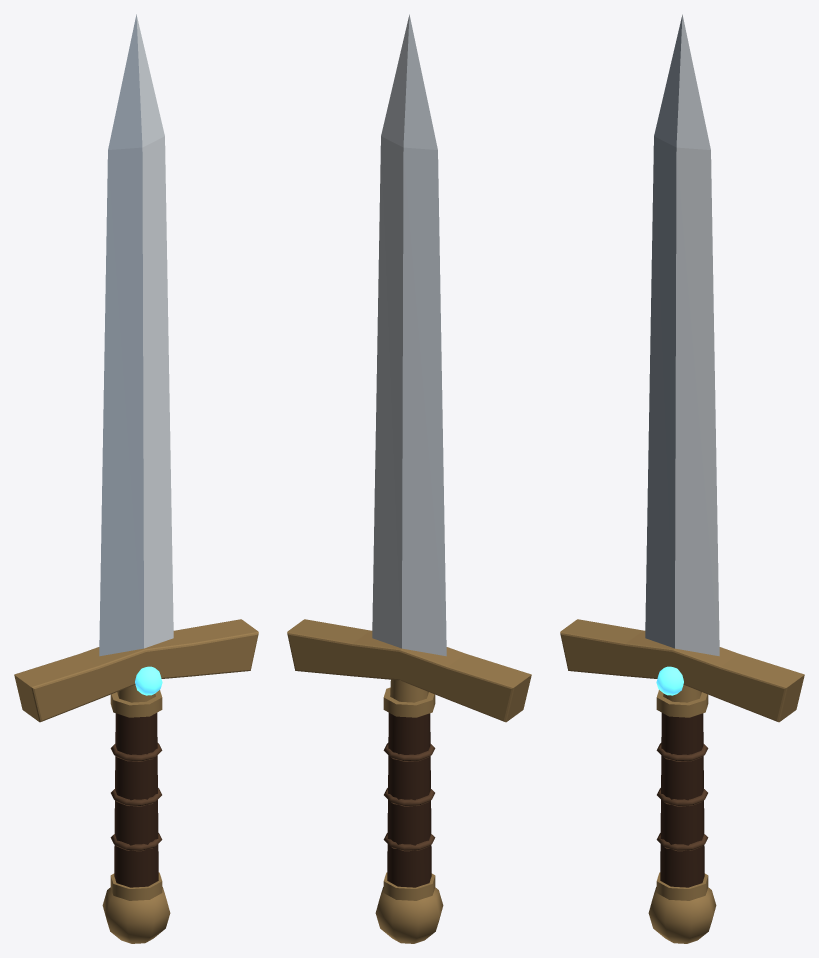
File: sword_f0_cb313329.glb
3 views of the same model, side by side, from view 1: azimuth 30°, elevation 25°; view 2: azimuth 150°, elevation 25°; view 3: azimuth 330°, elevation 25° (orthographic).
Visible parts, largest first — view 1: m0_ow80_, m3_ow80_, m1_ow80_, m4_ow80_, m2_gm160_; view 2: m0_ow80_, m3_ow80_, m1_ow80_, m4_ow80_; view 3: m0_ow80_, m3_ow80_, m1_ow80_, m4_ow80_, m2_gm160_.
Boxes of the visible parts, x1,y1,x2,y2 form: m0_ow80_: (99,14,173,656); m3_ow80_: (14,619,258,943); m1_ow80_: (114,713,158,887); m4_ow80_: (110,743,162,851); m2_gm160_: (135,666,162,695); m0_ow80_: (372,14,446,656); m3_ow80_: (287,619,531,943); m1_ow80_: (387,713,431,887); m4_ow80_: (383,743,435,851); m0_ow80_: (645,14,719,656); m3_ow80_: (560,619,804,943); m1_ow80_: (660,713,704,887); m4_ow80_: (656,743,708,851); m2_gm160_: (656,666,683,695).
Bounding box in the file's own units: 0.4791 × 1.87 × 0.134.
